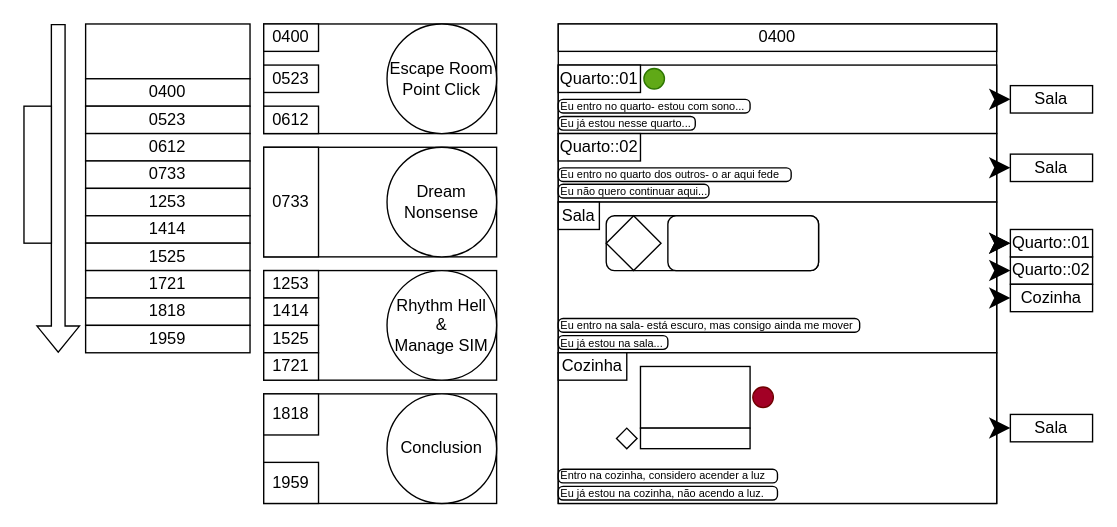
The diagram is 1117 pixels wide and 527 high, and some of its shapes have lost their labels. The box of each missing label's shape, as (x1, y1, x2, y2) in pixels:
Coffe Beans Water Coffe Maker: (639, 365, 750, 428)
HORARIOS: (84, 23, 250, 79)
Null [ ErroR ]: (639, 427, 750, 449)
S={1}: (605, 214, 661, 271)
Secret item & Jump scare: (667, 214, 819, 271)
Unlock Order: (23, 105, 51, 243)
